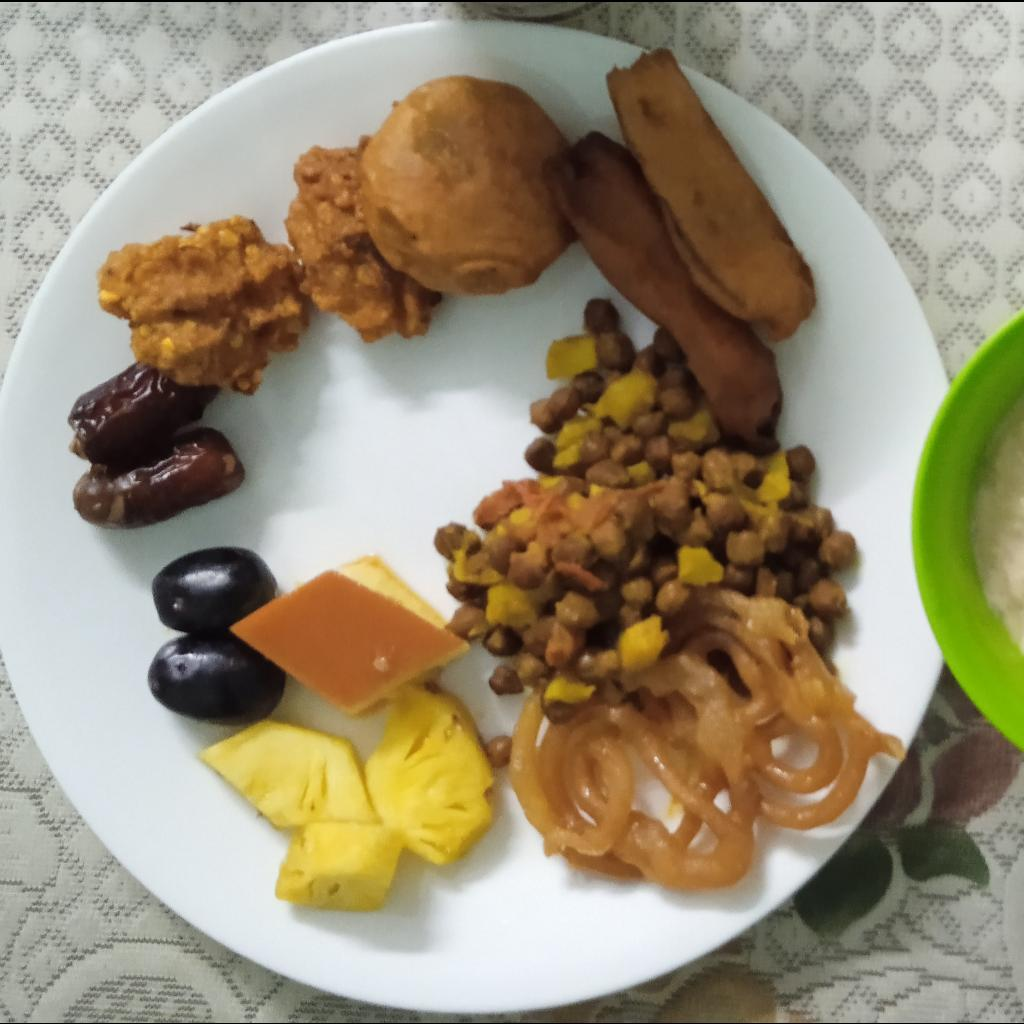beguni: (549, 49, 815, 437)
chola: (432, 297, 857, 719)
chop-alu: (359, 75, 575, 293)
dates: (66, 361, 246, 531), (148, 545, 287, 724)
jilapi: (507, 587, 907, 891)
payesh: (972, 397, 1024, 650)
pineapple: (197, 682, 493, 911)
piyaju: (99, 137, 439, 392)
sweets: (230, 560, 471, 717)
